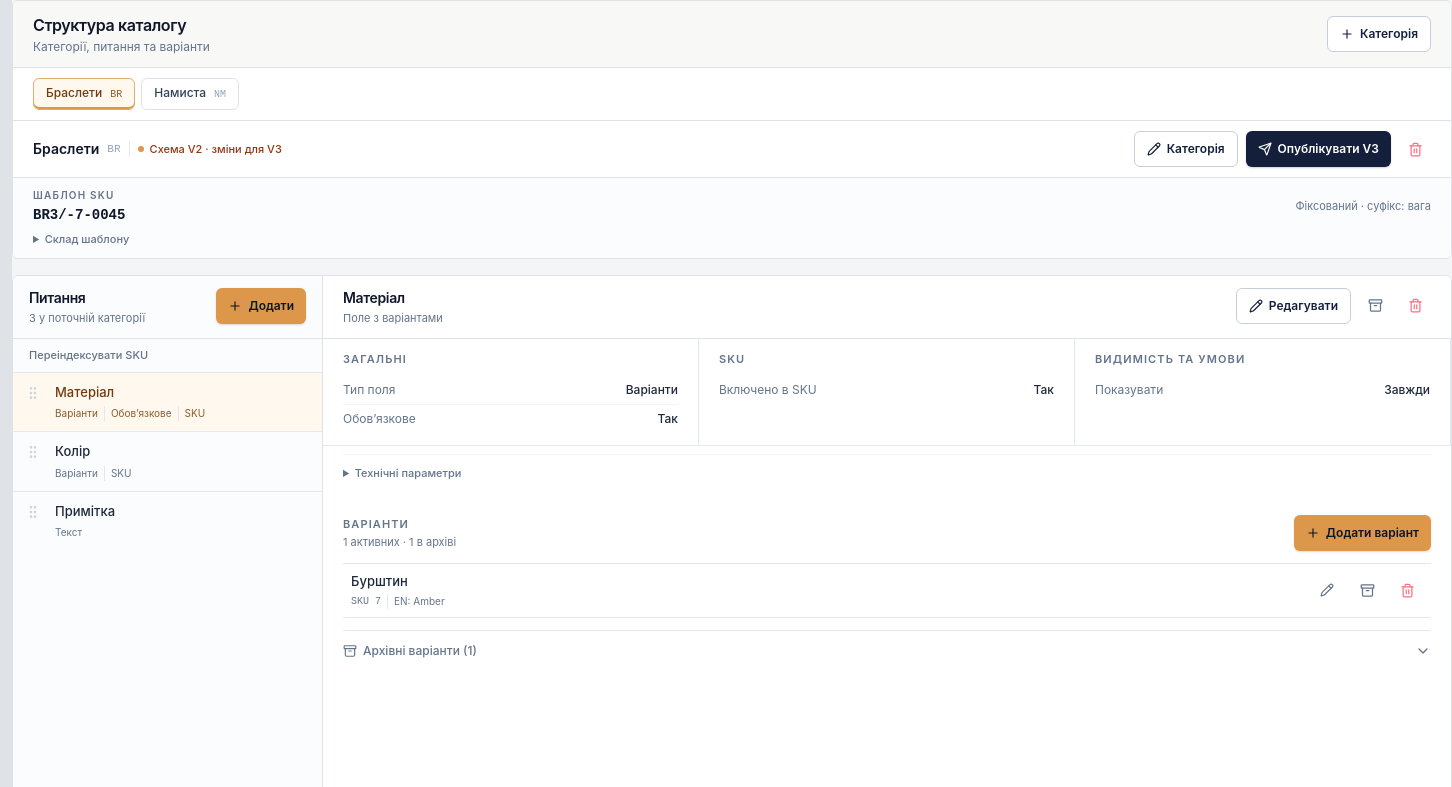
Test case: clears an unsaved new-option editor when switching category without saving it
Click the button "Додати варіант" at (1362, 533), box 1294,515 -> 1431,551
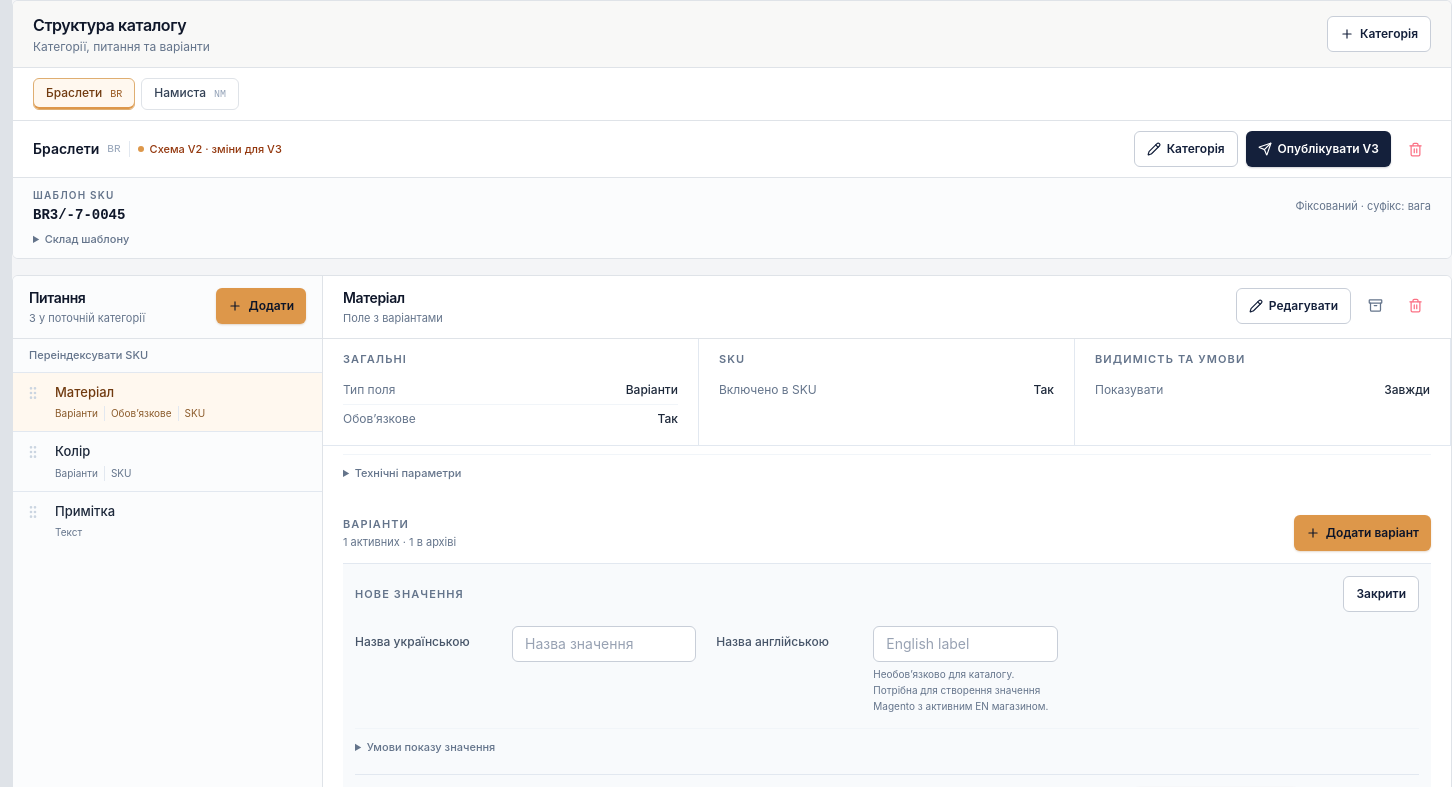
Type "Новий матеріал" into the field labelled "Назва українською" at (604, 644), box 512,626 -> 696,662
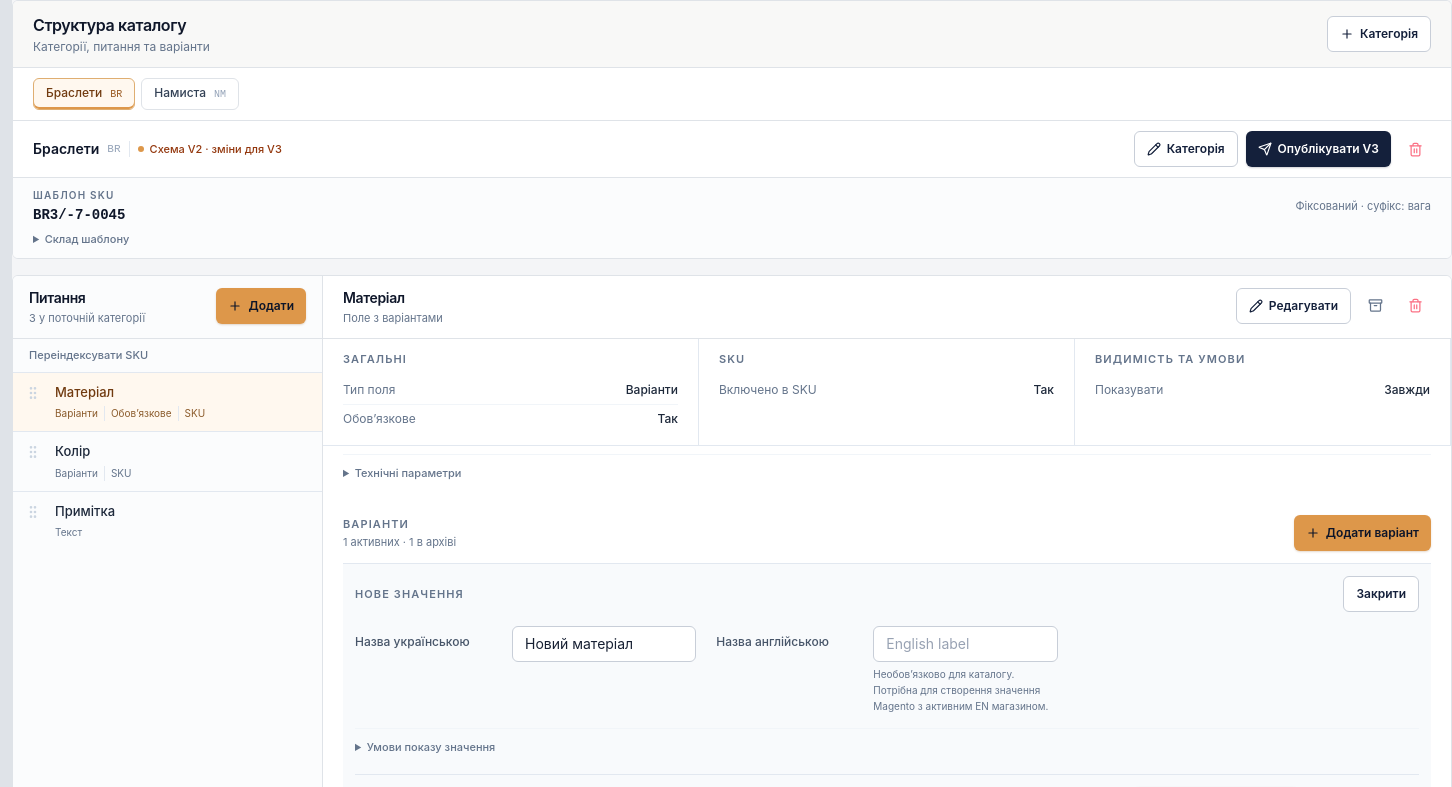
Click the button "Намиста NM" at (190, 94), box 141,78 -> 239,110
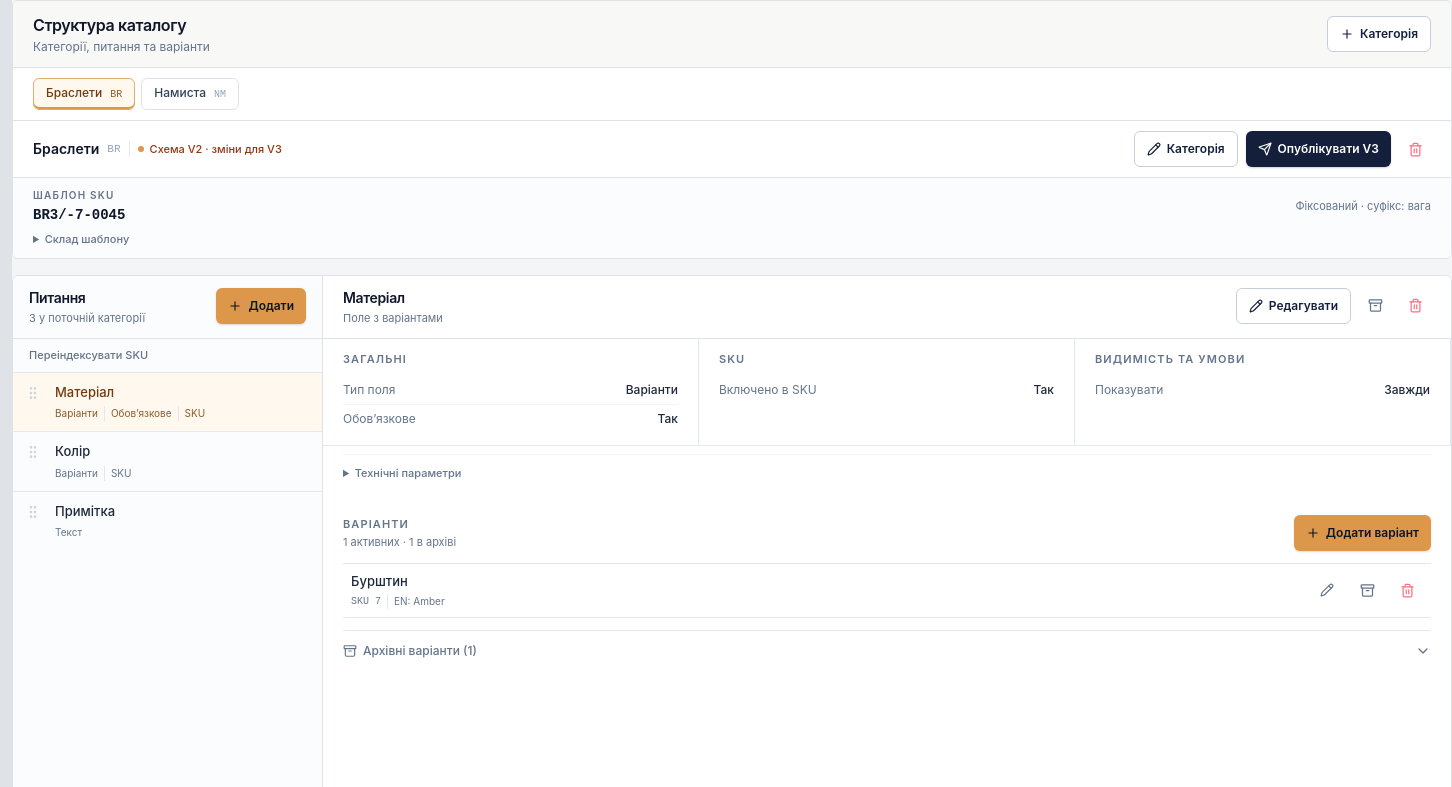
Expected: the text "Назва українською" is gone
